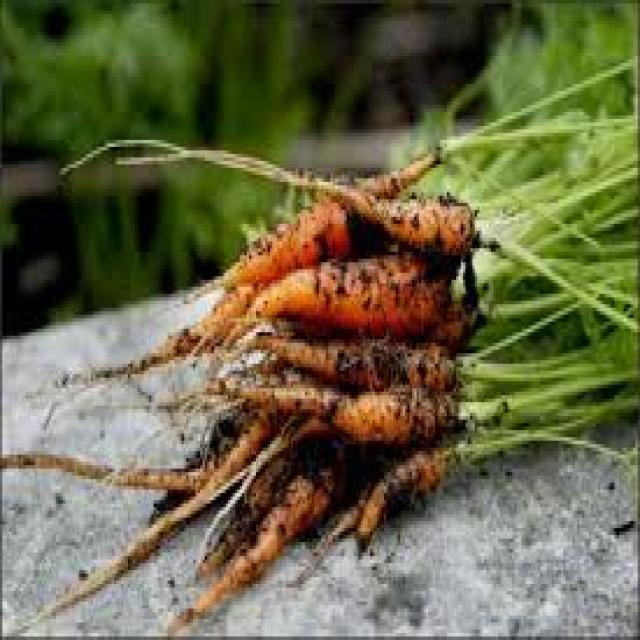Stale_Carrot: (182, 129, 483, 566)
